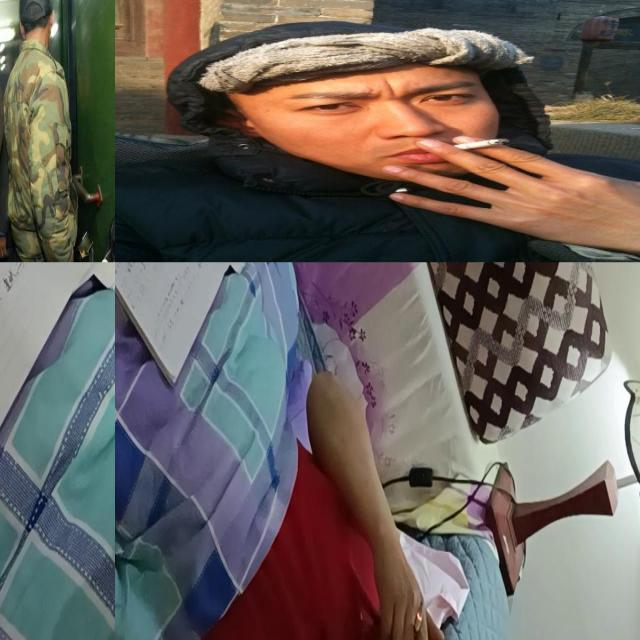smoke: (446, 137, 626, 260), (378, 564, 440, 638)
